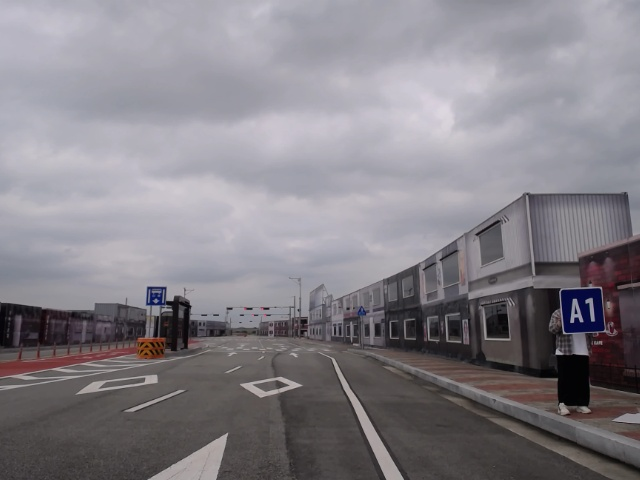delivery_a1: (560, 287, 606, 334)
